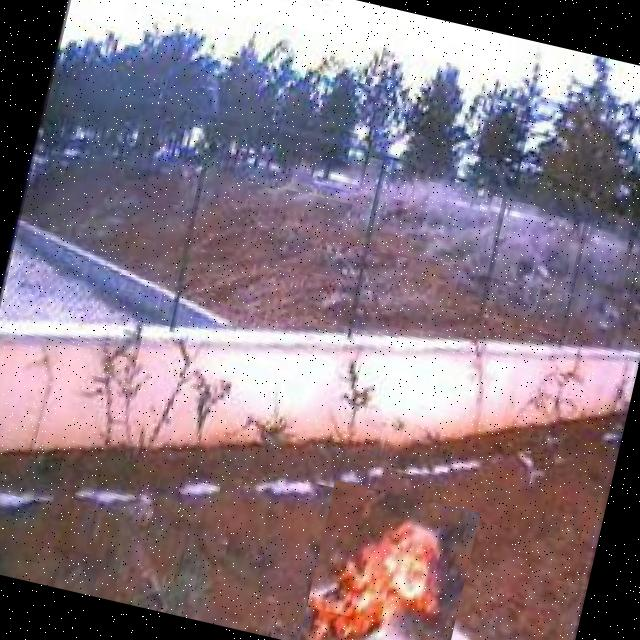fire: (298, 479, 479, 640)
